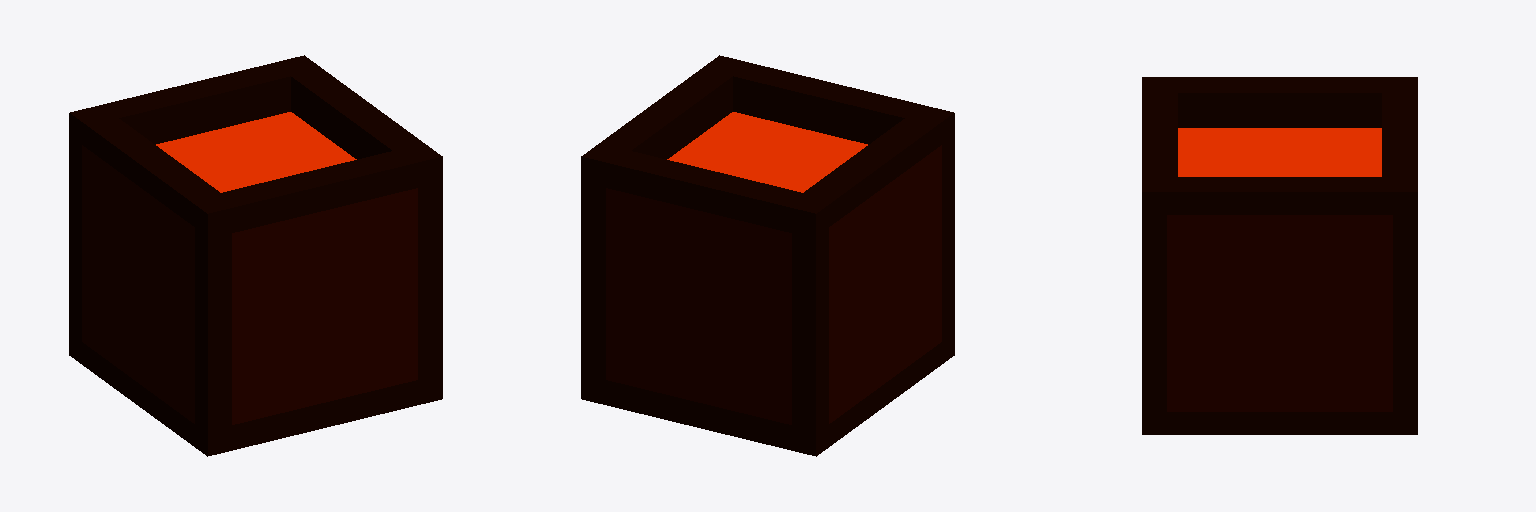
The model's file is food_box.obj.
3 views of the same model, side by side, from view 1: azimuth 30°, elevation 25°; view 2: azimuth 150°, elevation 25°; view 3: azimuth 270°, elevation 25° (orthographic).
Visible parts, largest first — view 1: Cube_Cube.001; view 2: Cube_Cube.001; view 3: Cube_Cube.001.
Boxes of the visible parts, box(x1,y1,x2,y2) form: Cube_Cube.001: box(69, 55, 442, 456); Cube_Cube.001: box(581, 55, 954, 456); Cube_Cube.001: box(1142, 77, 1417, 434).
Size of the model in its own units: 1.21 by 1.19 by 1.23.